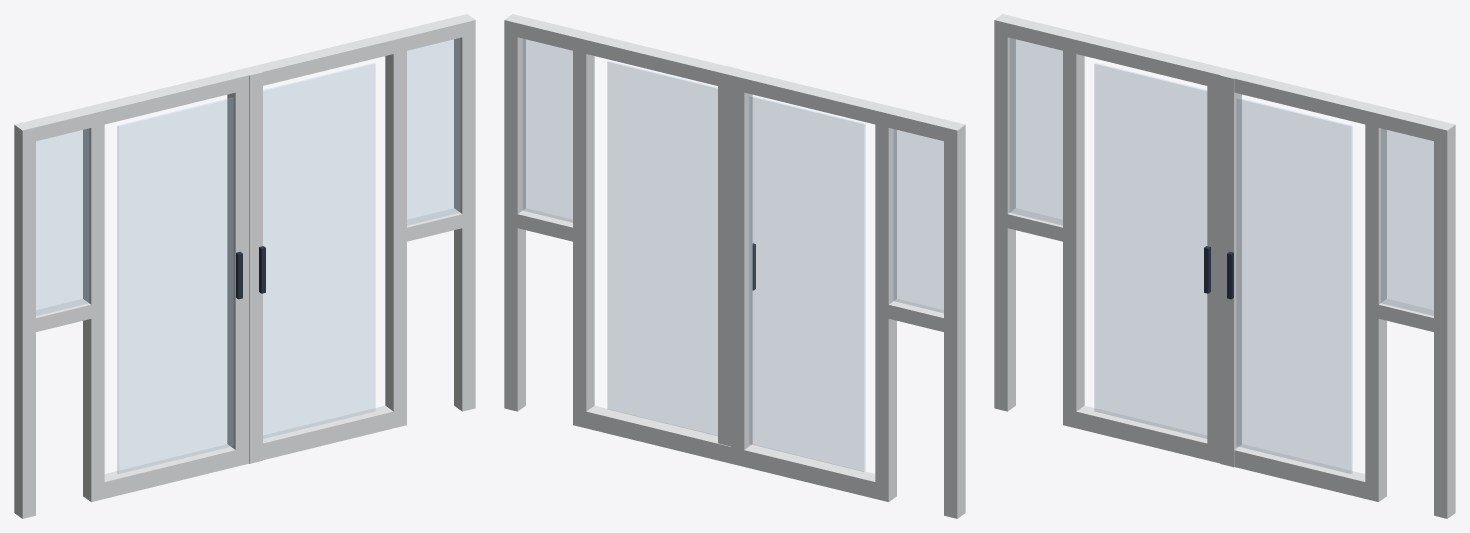
File: patio_doors_side_lights.glb
3 renders of one model, left to right at view 1: azimuth 30°, elevation 25°; view 2: azimuth 150°, elevation 25°; view 3: azimuth 330°, elevation 25°, orthographic.
Parts seen in each view (by area): view 1: left_door_glass_pane, right_door_glass_pane, top_frame, left_side_glass_half_panel, right_side_glass_half_panel, left_outer_frame, left_door_jamb, right_outer_frame, right_door_jamb, centre_meeting_frame_left, door_bottom_rail, centre_meeting_frame_right (+2 smaller); view 2: left_door_glass_pane, right_door_glass_pane, top_frame, left_side_glass_half_panel, right_side_glass_half_panel, left_outer_frame, left_door_jamb, right_door_jamb, right_outer_frame, centre_meeting_frame_left, door_bottom_rail, centre_meeting_frame_right (+2 smaller); view 3: right_door_glass_pane, left_door_glass_pane, top_frame, left_side_glass_half_panel, right_side_glass_half_panel, right_outer_frame, left_outer_frame, left_door_jamb, right_door_jamb, centre_meeting_frame_right, door_bottom_rail, centre_meeting_frame_left (+2 smaller).
Part boxes in pixels (x1,y1,x2,y2): left_door_glass_pane: (117, 98, 233, 473); right_door_glass_pane: (263, 63, 375, 438); top_frame: (14, 14, 475, 144); left_side_glass_half_panel: (36, 129, 88, 315); right_side_glass_half_panel: (407, 38, 459, 225); left_outer_frame: (14, 123, 35, 518); left_door_jamb: (83, 106, 104, 502); right_outer_frame: (454, 22, 475, 411); right_door_jamb: (385, 51, 406, 428); centre_meeting_frame_left: (227, 78, 248, 465); door_bottom_rail: (104, 405, 393, 498); centre_meeting_frame_right: (249, 72, 262, 463); left_door_glass_pane: (749, 95, 865, 471); right_door_glass_pane: (607, 61, 717, 435); top_frame: (504, 14, 965, 144); left_side_glass_half_panel: (894, 129, 943, 312); right_side_glass_half_panel: (523, 39, 572, 222); left_outer_frame: (944, 125, 965, 518); left_door_jamb: (875, 112, 896, 502); right_door_jamb: (573, 37, 594, 428); right_outer_frame: (504, 21, 525, 411); centre_meeting_frame_left: (731, 76, 752, 466); door_bottom_rail: (586, 405, 875, 498); centre_meeting_frame_right: (718, 65, 739, 446); right_door_glass_pane: (1236, 98, 1352, 473); left_door_glass_pane: (1094, 63, 1206, 438); top_frame: (994, 14, 1455, 144); left_side_glass_half_panel: (1010, 38, 1062, 225); right_side_glass_half_panel: (1381, 129, 1433, 315); right_outer_frame: (1434, 126, 1455, 518); left_outer_frame: (994, 21, 1015, 411); left_door_jamb: (1063, 37, 1084, 428); right_door_jamb: (1365, 113, 1386, 502); centre_meeting_frame_right: (1220, 75, 1241, 467); door_bottom_rail: (1076, 405, 1365, 498); centre_meeting_frame_left: (1207, 75, 1220, 462).
Size of the model in its own units: 2.54 by 2.08 by 0.1105.
